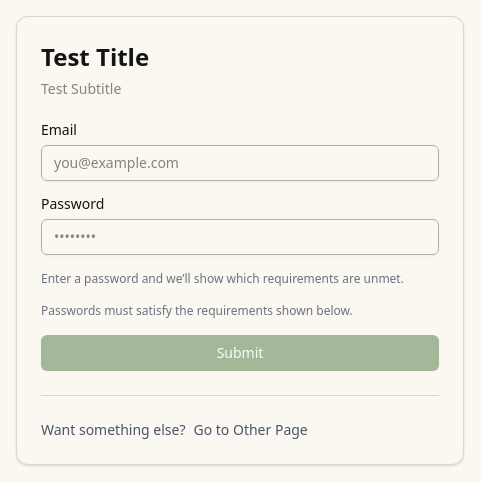
AuthCard Component › should display a success message when password validation passes
Type "ValidPassword123!" into the password field labelled "Password".
click(240, 236); type("ValidPassword123!")  # box [41, 218, 439, 254]
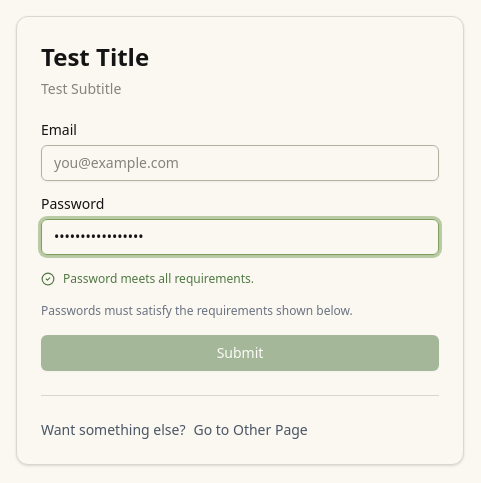
Expected: the text "Password meets all requirements." is shown, [41, 270, 254, 286]
